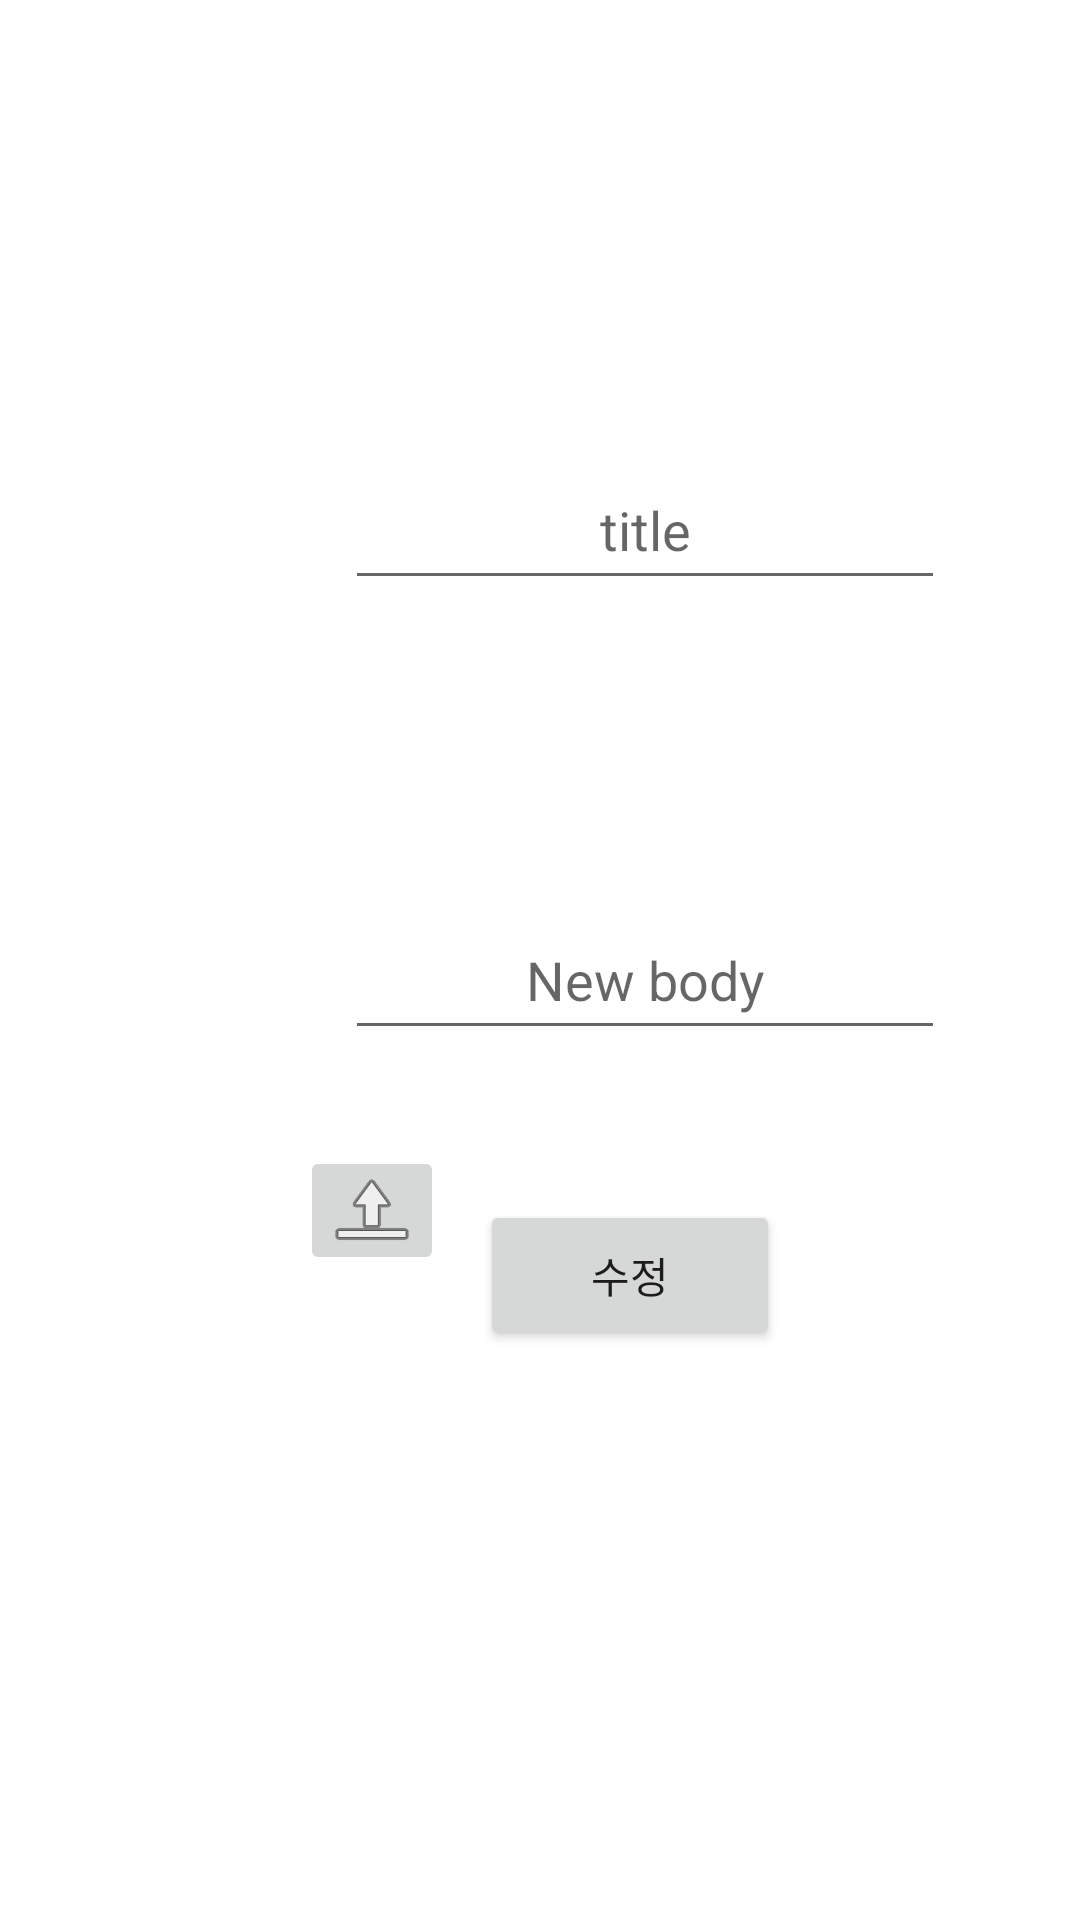

Icons on this 1080px×1920px Android screen, each with its box as {"x1": x1, "y1": y1, "x2": x2, "y2": y2}:
upload: {"x1": 312, "y1": 1164, "x2": 432, "y2": 1257}
